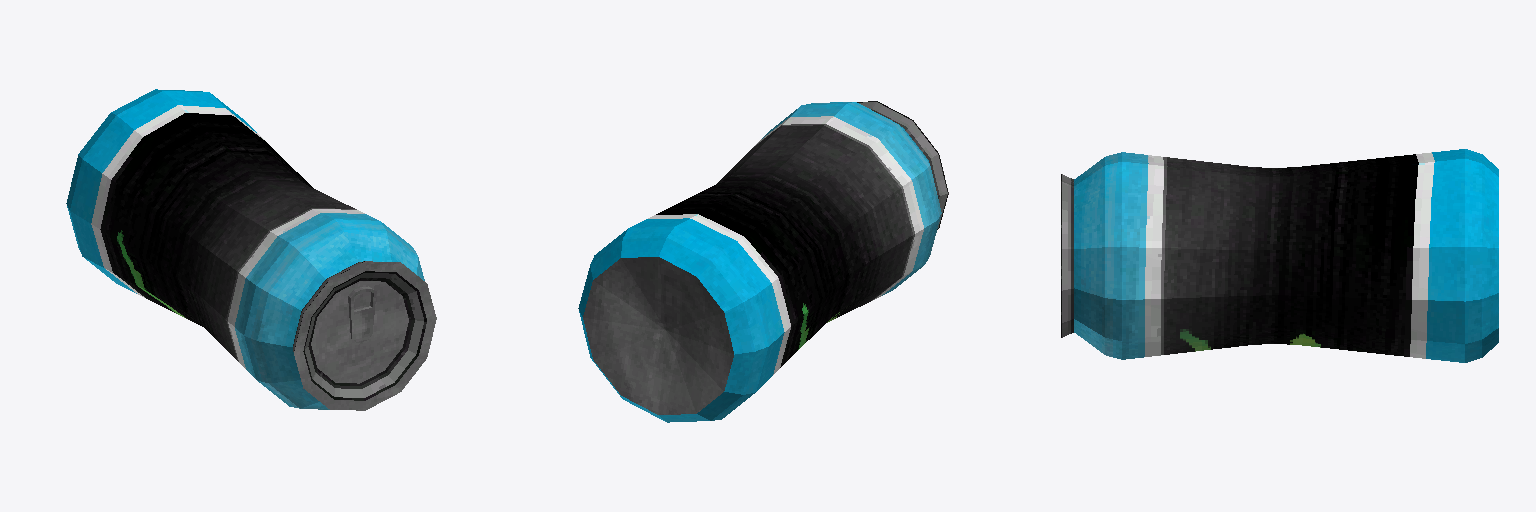
3 renders of one model, left to right at view 1: azimuth 30°, elevation 25°; view 2: azimuth 150°, elevation 25°; view 3: azimuth 270°, elevation 25°, orthographic.
Visible parts, largest first — view 1: EnergyDrink; view 2: EnergyDrink; view 3: EnergyDrink.
Part boxes in pixels (x1,y1,x2,y2): EnergyDrink: (66, 89, 436, 410); EnergyDrink: (578, 101, 948, 422); EnergyDrink: (1061, 149, 1498, 362).
Size of the model in its own units: 0.1681 by 0.1677 by 0.341.
1 materials, 1 textured.